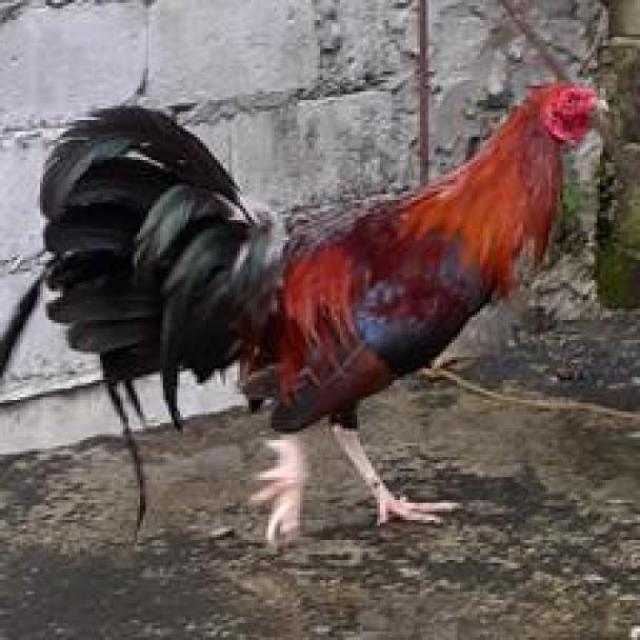Chicken: (36, 33, 619, 550)
